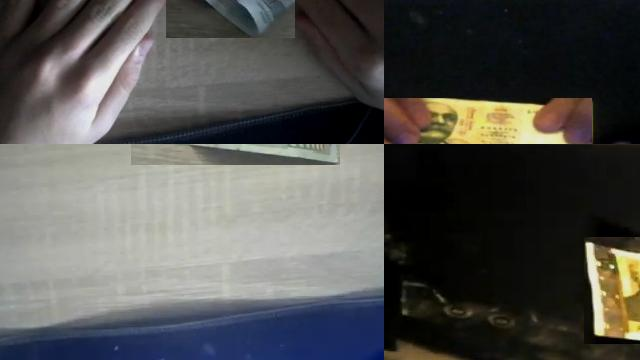10leva: (415, 98, 569, 144), (584, 245, 640, 342)
